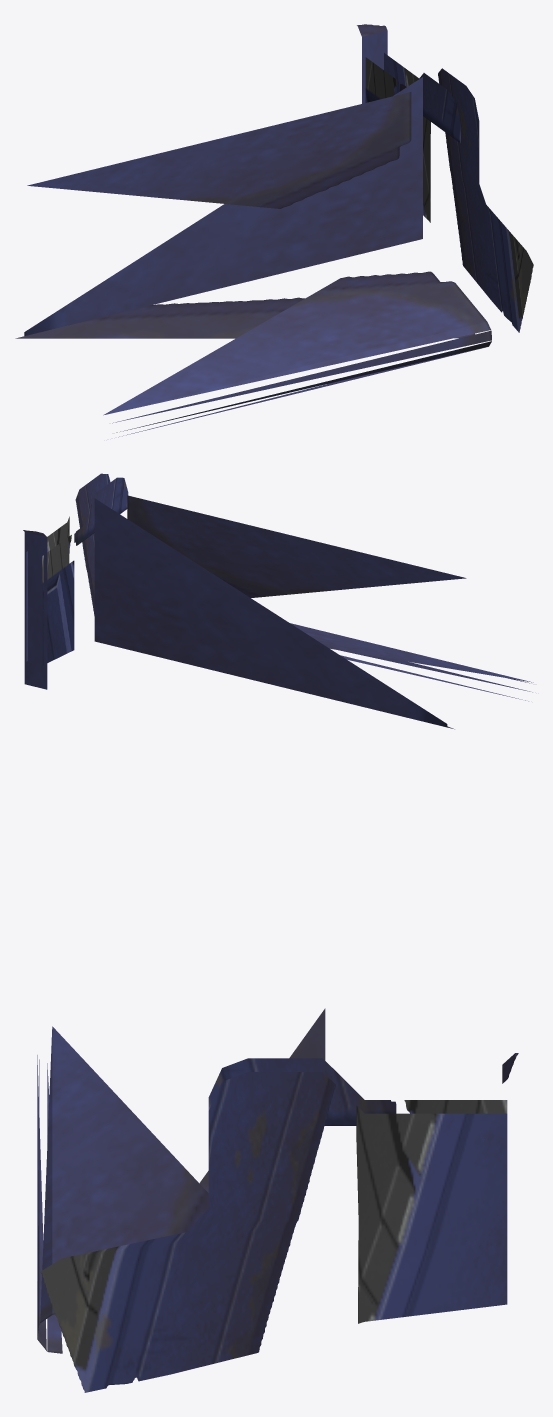
The picture shows the model from 3 angles, top to bottom: view 1: azimuth 30°, elevation 25°; view 2: azimuth 150°, elevation 25°; view 3: azimuth 270°, elevation 25°; orthographic projection. The views are drawn at different scales.
Size of the model in its own units: 1.44 by 0.7134 by 0.9834.
